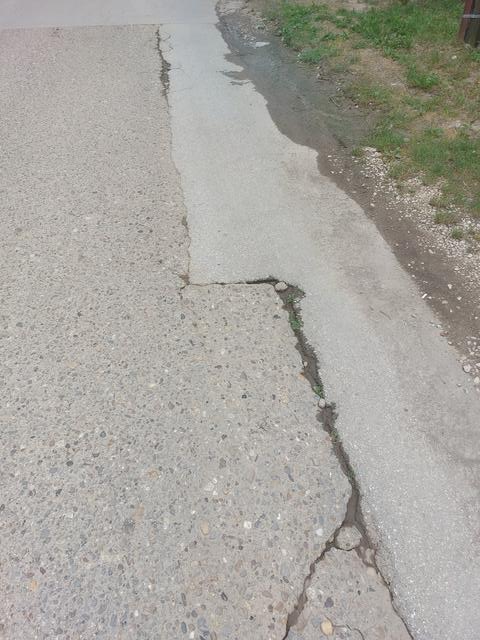pothole: (255, 261, 349, 418)
